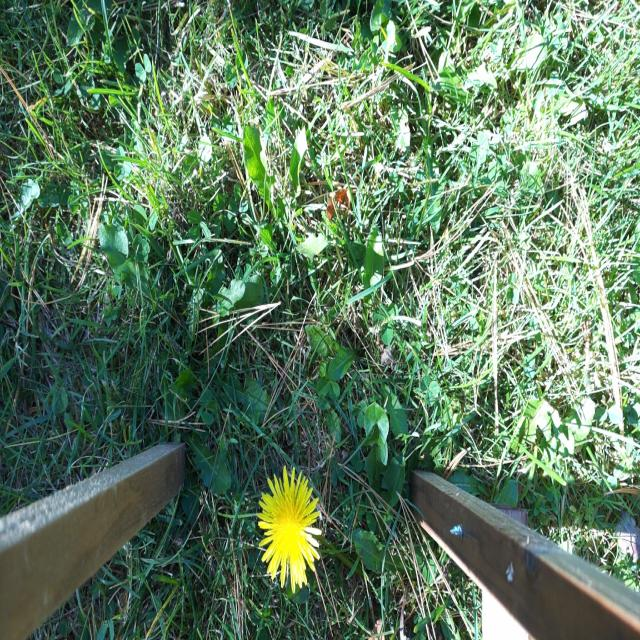base: (344, 552, 361, 580)
